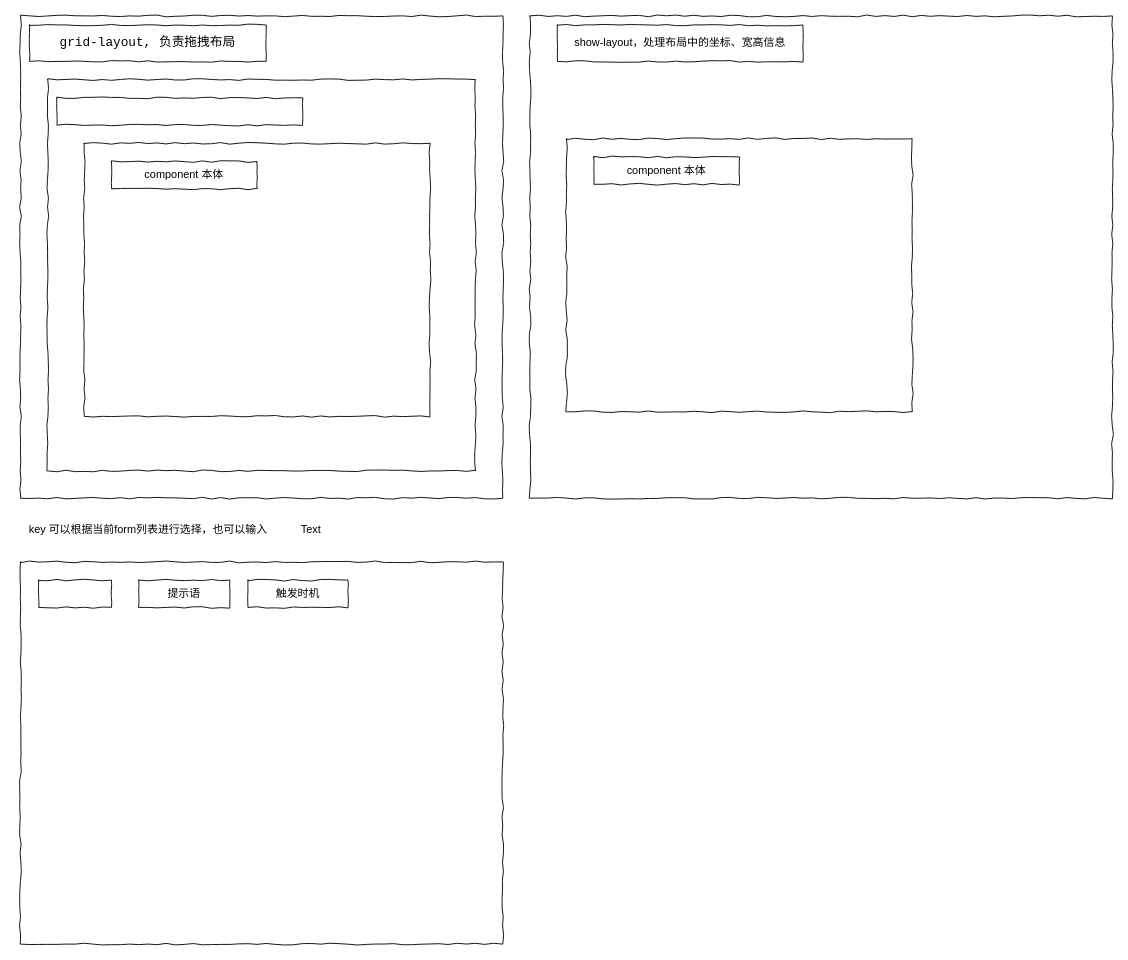
The diagram is 1128 pixels wide and 960 high, and some of its shapes have lost their labels. The shapes that lost their labels are listed below. From the top down, each one's centre as x and y in pixels, then its label:
[179,111]: comp-wrap，负责被拖拽元素添加额外的工具
[74,593]: key
